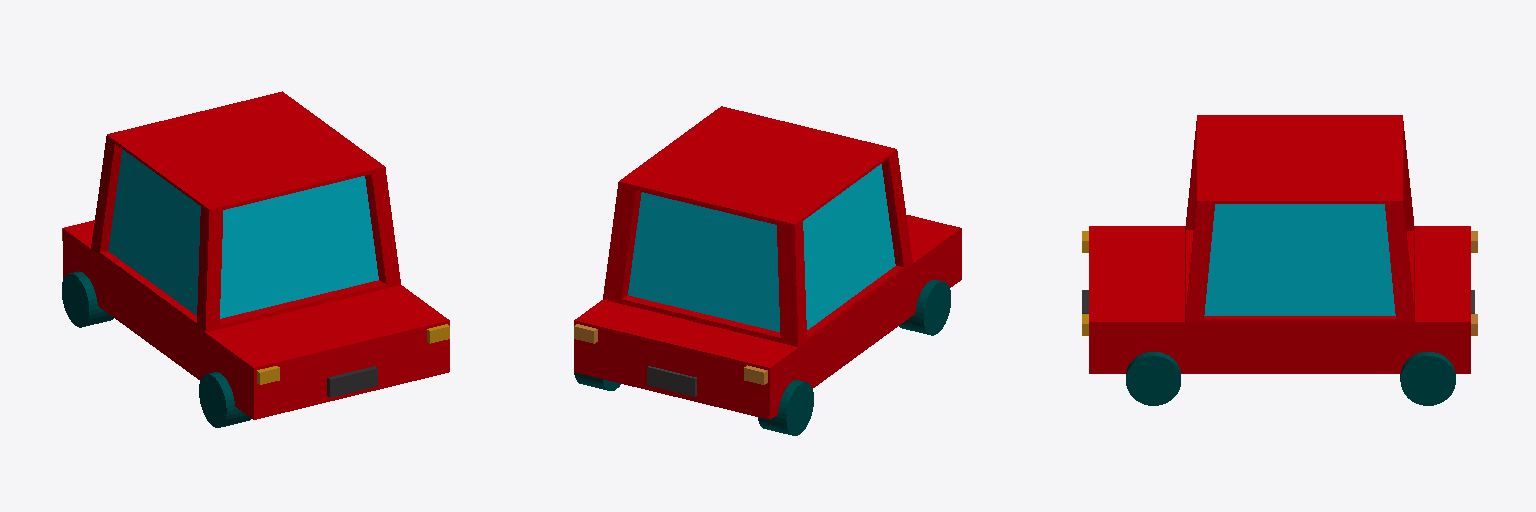
File: car.obj
The picture shows the model from 3 angles: view 1: azimuth 30°, elevation 25°; view 2: azimuth 150°, elevation 25°; view 3: azimuth 270°, elevation 25°; orthographic projection.
Parts seen in each view (by area): view 1: Cube.005, Cube, Cylinder, Cube.003, Cube.001; view 2: Cube.005, Cube, Cylinder, Cube.004, Cube.002; view 3: Cube.005, Cube, Cylinder.
Boxes of the visible parts, box(x1,y1,x2,y2) form: Cube.005: box(63, 91, 449, 419); Cube: box(108, 149, 378, 318); Cylinder: box(62, 271, 251, 427); Cube.003: box(327, 366, 377, 397); Cube.001: box(257, 324, 449, 384); Cube.005: box(574, 106, 961, 419); Cube: box(628, 164, 895, 331); Cylinder: box(574, 279, 950, 435); Cube.004: box(647, 366, 696, 396); Cube.002: box(574, 324, 767, 384); Cube.005: box(1089, 115, 1470, 373); Cube: box(1204, 204, 1395, 315); Cylinder: box(1126, 352, 1455, 405).
Size of the model in its own units: 4.31 by 3.79 by 6.93.